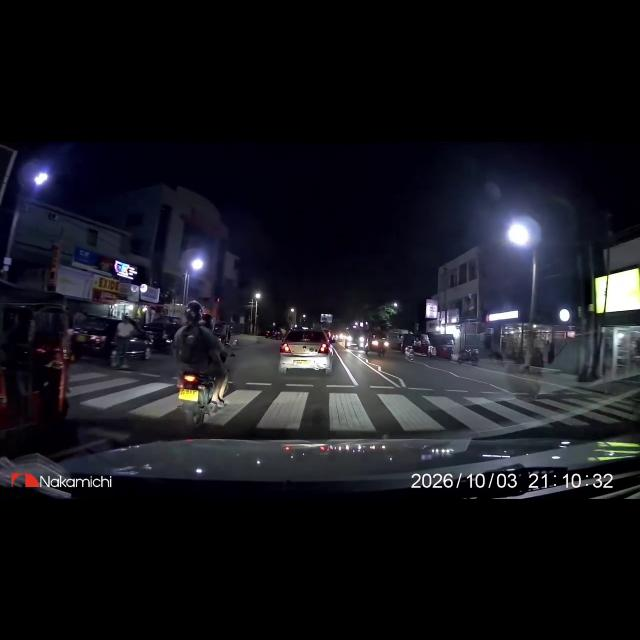car: (279, 330, 329, 376)
crosswalk: (256, 388, 502, 437)
double_solid_line: (345, 366, 383, 379)
helmet: (188, 302, 202, 322), (206, 314, 216, 328)
motorcycle: (166, 360, 220, 420)
number_plate: (178, 386, 200, 404)
person: (184, 301, 204, 394), (207, 321, 220, 372)
three_wheeler: (15, 310, 65, 428), (374, 330, 388, 356)
